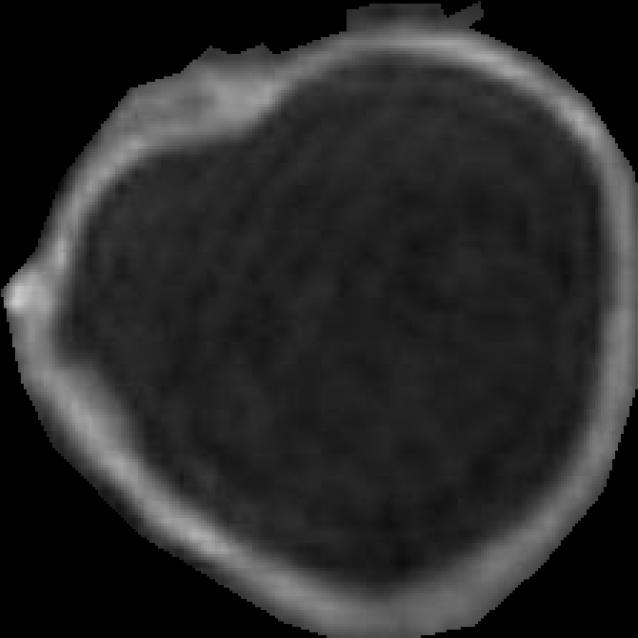tumor_moderate_chance: (1, 1, 638, 638)
